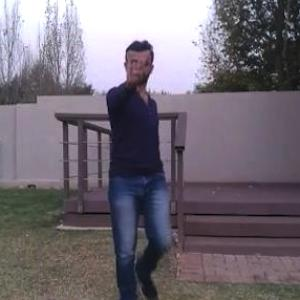takeoff-hand: (121, 43, 153, 85)
